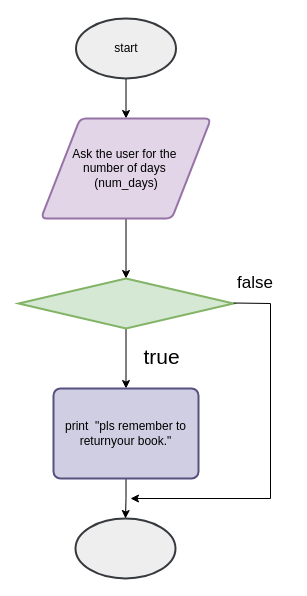
The diagram is 307 pixels wide and 596 high, and some of its shapes have lost their labels. The shapes that lost their labels are listed below. From the top down, each one's centre as x and y in pixels, then its label:
pixel 125 303: Check if num_days > 25
pixel 125 548: end
